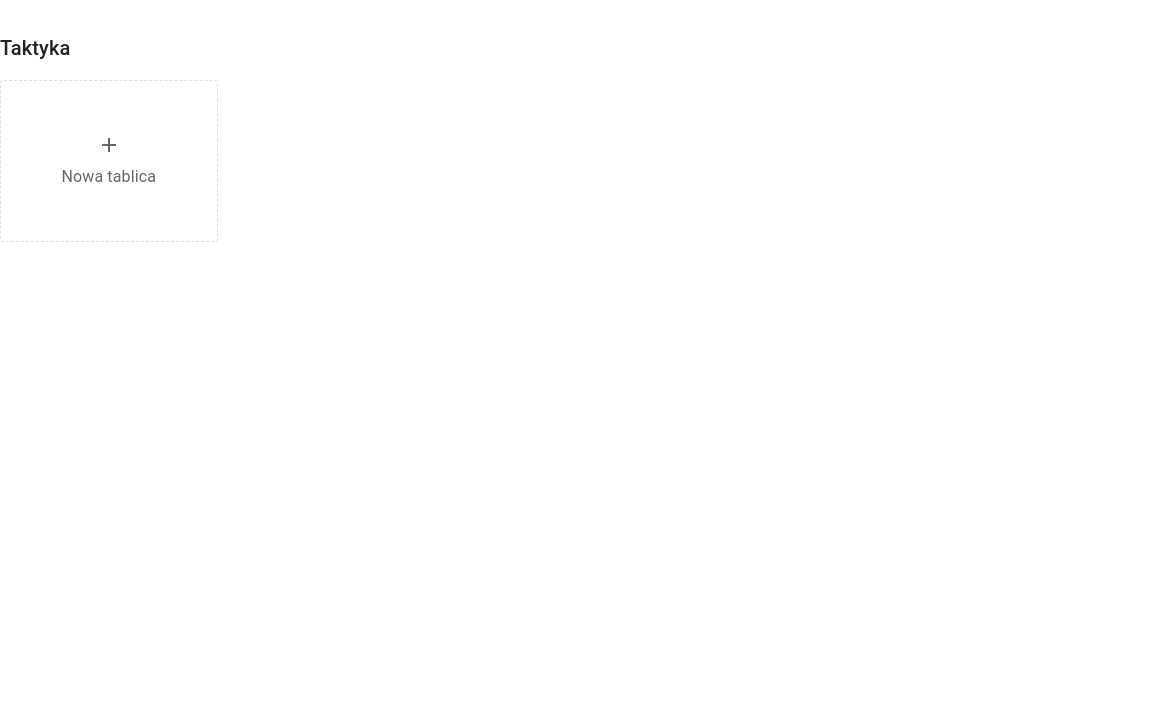
Test: creating a board › reports a failure and keeps the dialog
Expected: the text "Nowa tablica" is shown, x1=61 y1=165 x2=156 y2=189
Click the button "Nowa tablica". click: (109, 161)
box: x1=1 y1=81 x2=217 y2=241
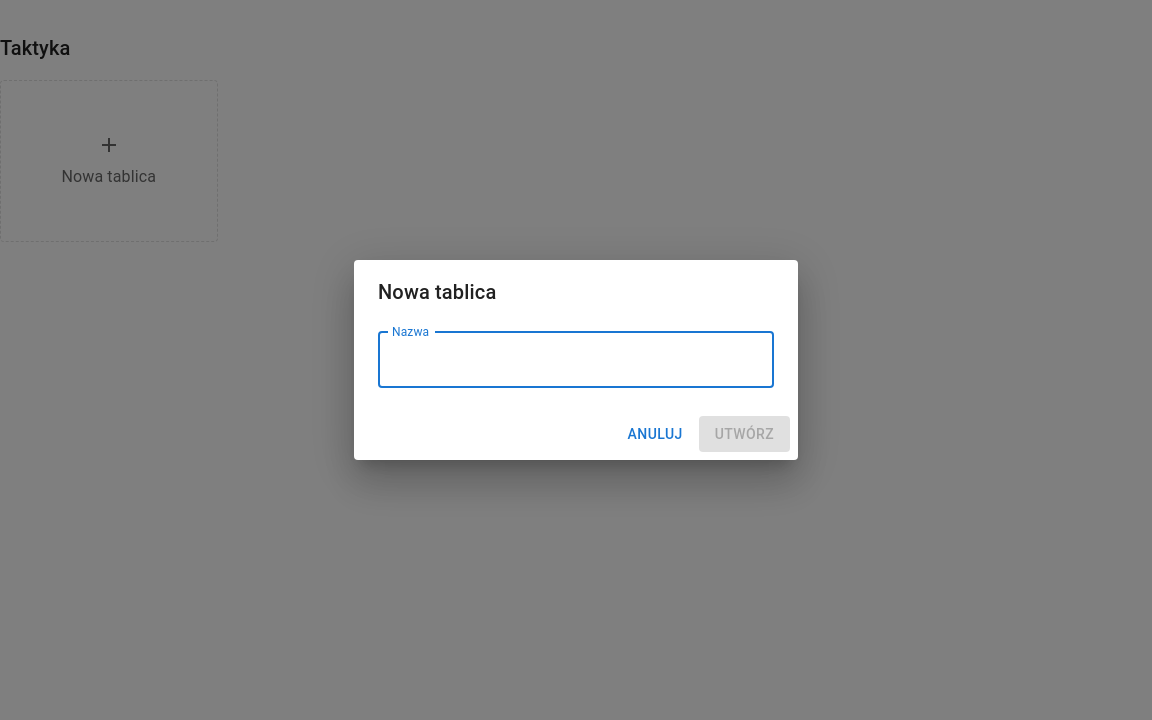
Type "Throw-in" into the field labelled "Nazwa". click: (576, 360)
box: x1=378 y1=332 x2=774 y2=388
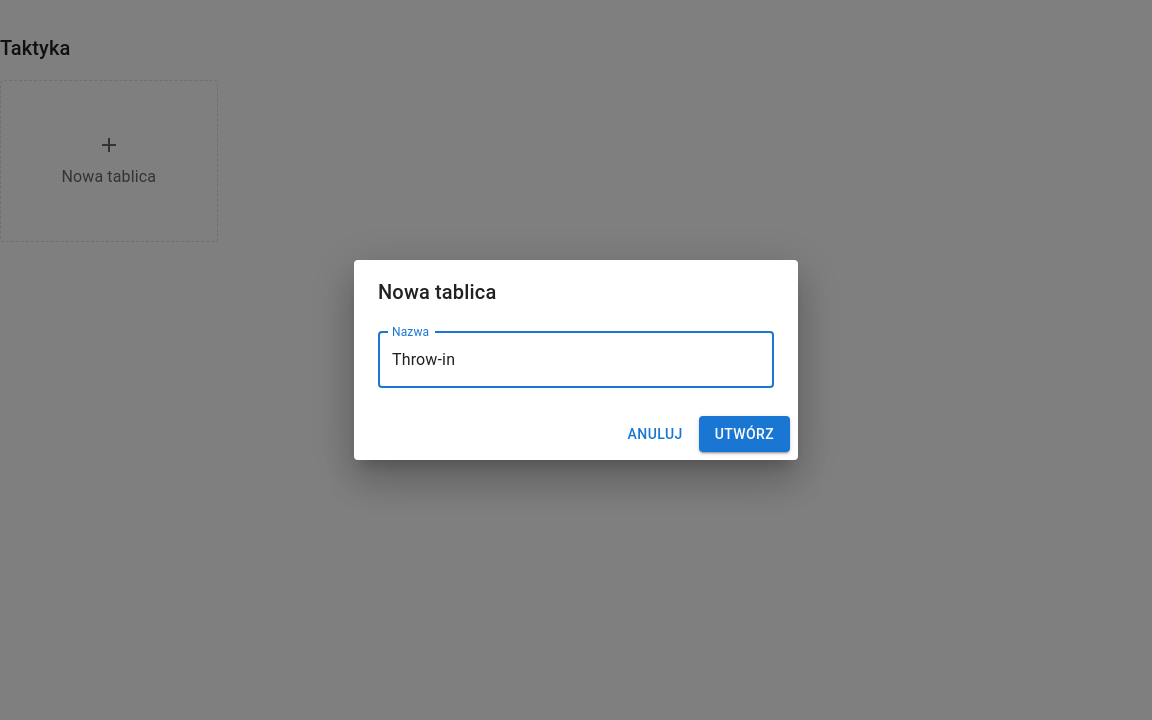
Click the button "Utwórz". click: (744, 434)
box: x1=699 y1=416 x2=790 y2=452
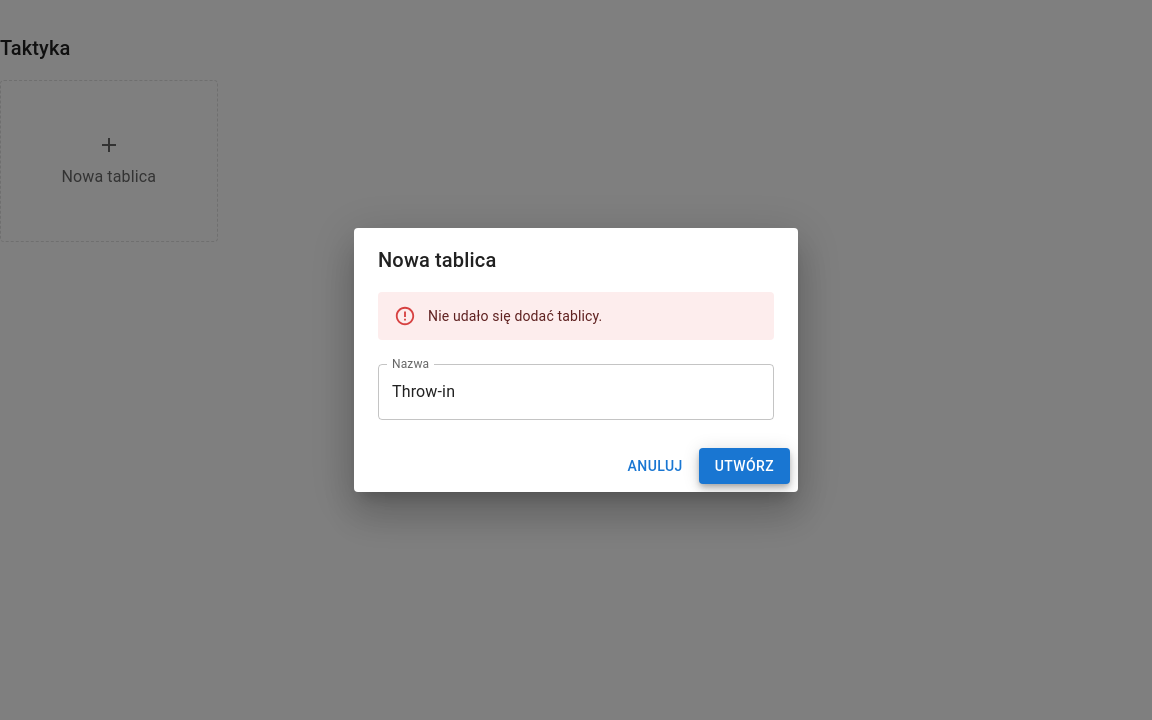
Now the text "Nie udało się dodać tablicy." is shown, box x1=428 y1=308 x2=602 y2=324
